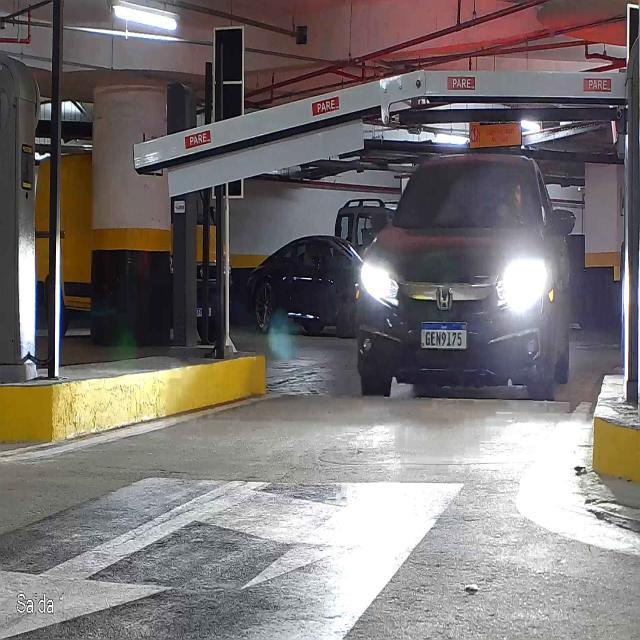mercosul_plate: (419, 320, 469, 350)
